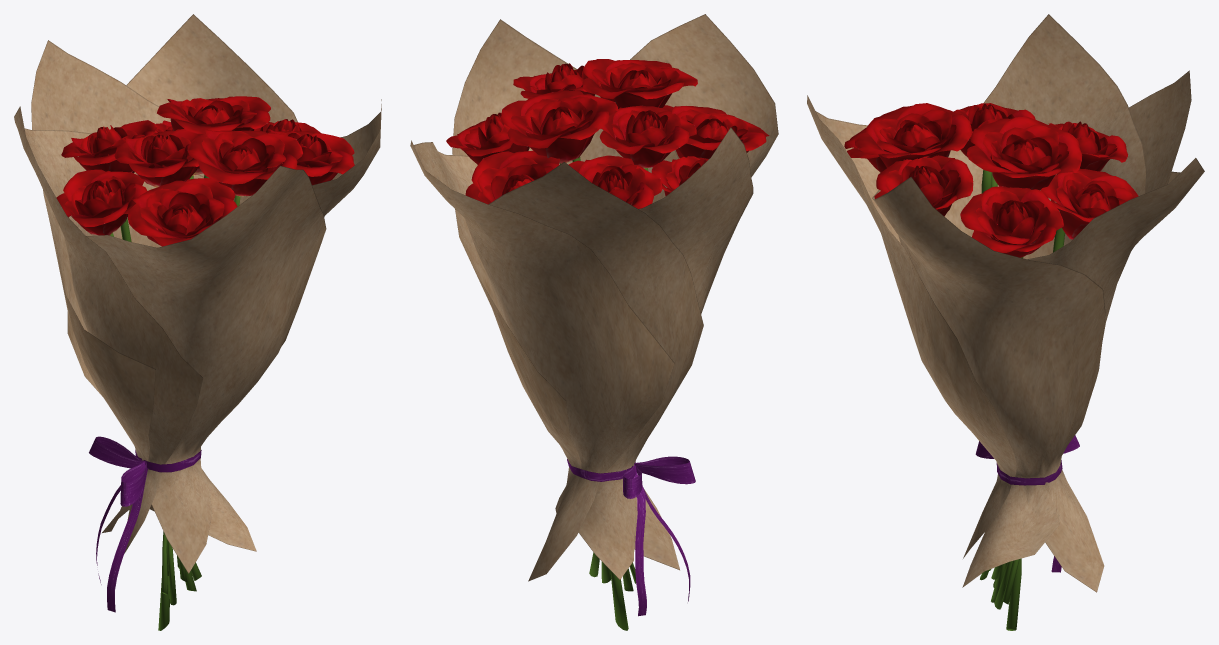
File: ROSE_LOD0.fbx
3 renders of one model, left to right at view 1: azimuth 30°, elevation 25°; view 2: azimuth 150°, elevation 25°; view 3: azimuth 270°, elevation 25°, orthographic. The views are drawn at different scales.
Parts seen in each view (by area): view 1: ROSE VOD_1; view 2: ROSE VOD_1; view 3: ROSE VOD_1.
Boxes of the visible parts, x1,y1,x2,y2 form: ROSE VOD_1: (14,14,381,630); ROSE VOD_1: (410,14,778,630); ROSE VOD_1: (807,14,1204,630).
Size of the model in its own units: 38.88 by 64.95 by 42.07.
